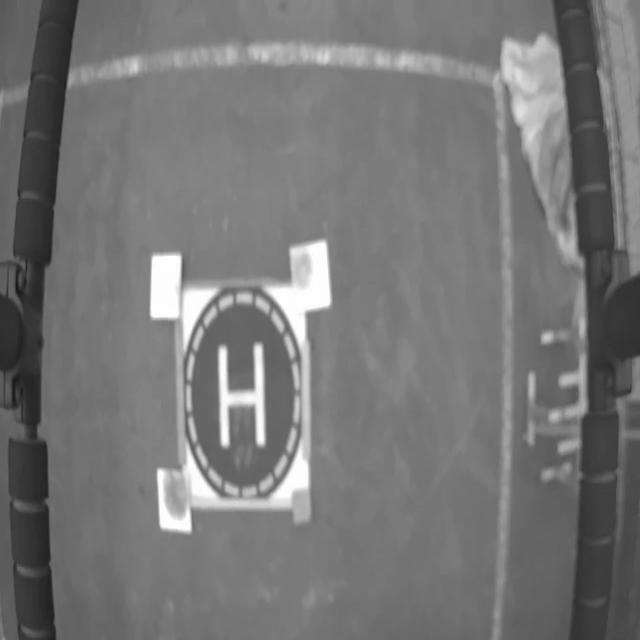Helipad: (217, 344, 266, 449)
